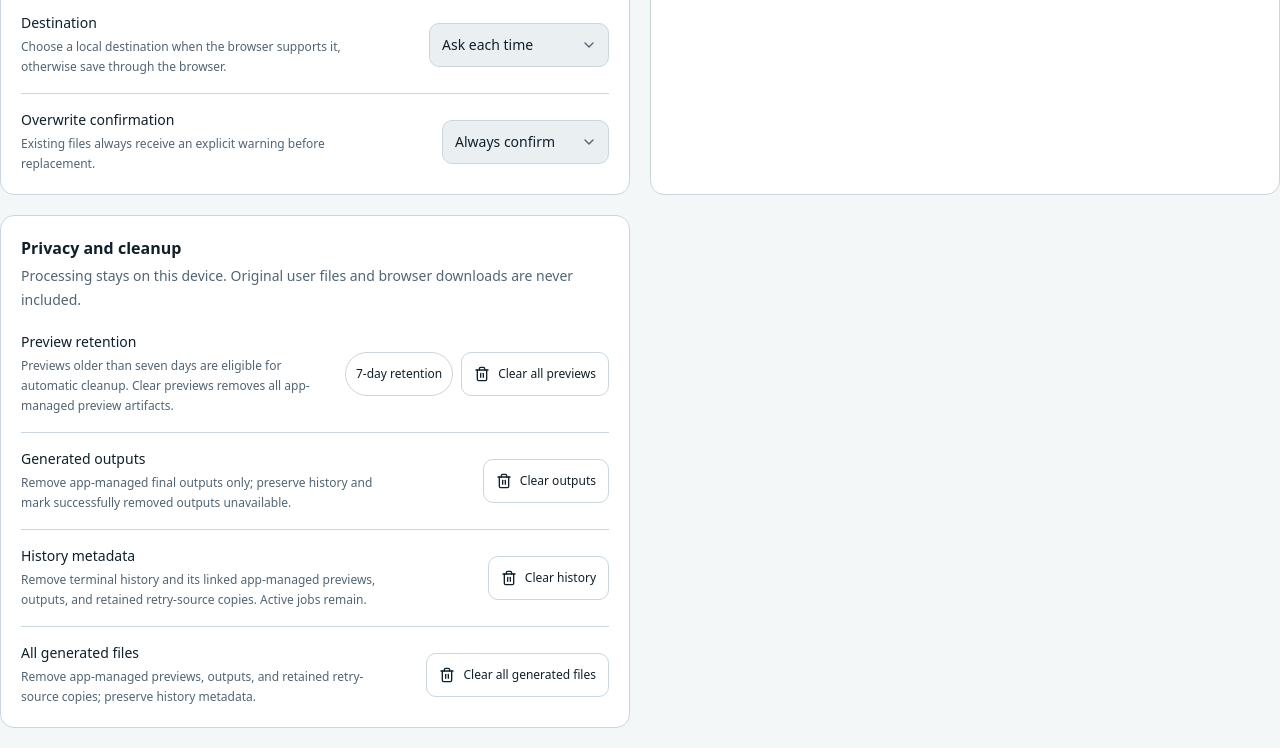
settings panel › announces partial failures by item
(page scrolled)
Step 1. Click the button "Clear outputs" → (546,481), box [483, 459, 609, 503]
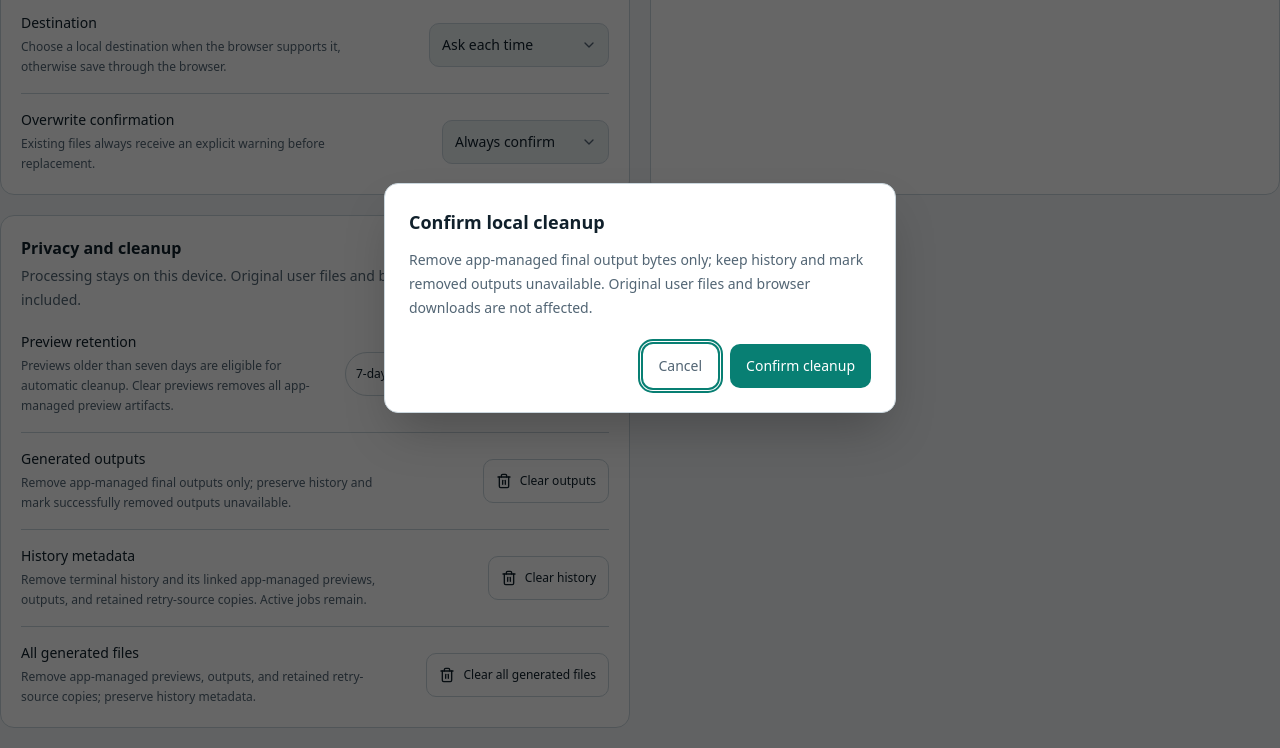
Step 2. Click the button "Confirm cleanup" → (801,366), box [730, 344, 871, 388]
(page scrolled)
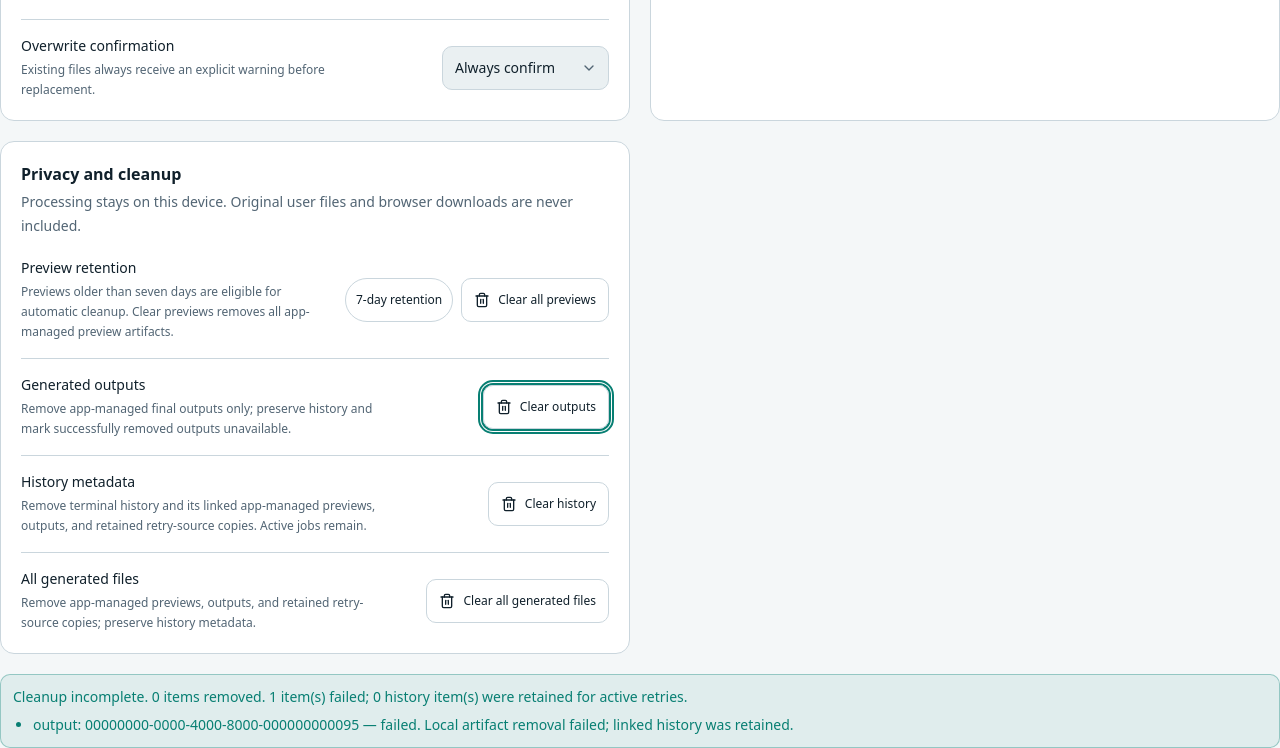
Check: the message shows "Cleanup incomplete", box [13, 687, 688, 706]
